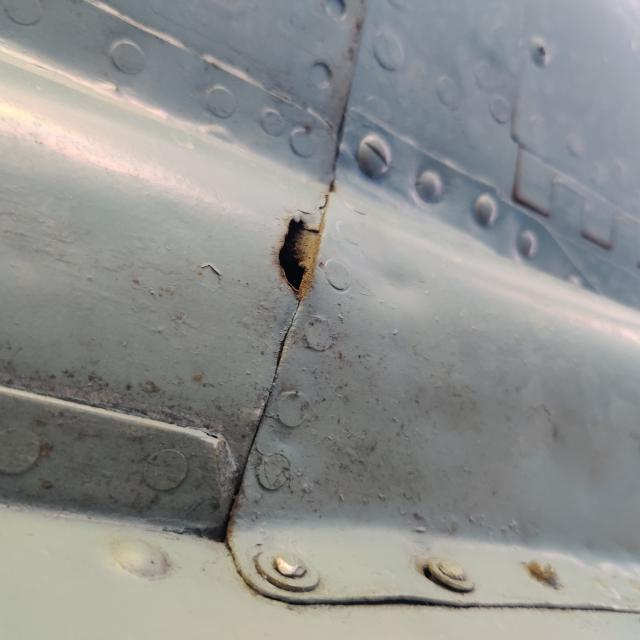Crack: (269, 207, 328, 310)
